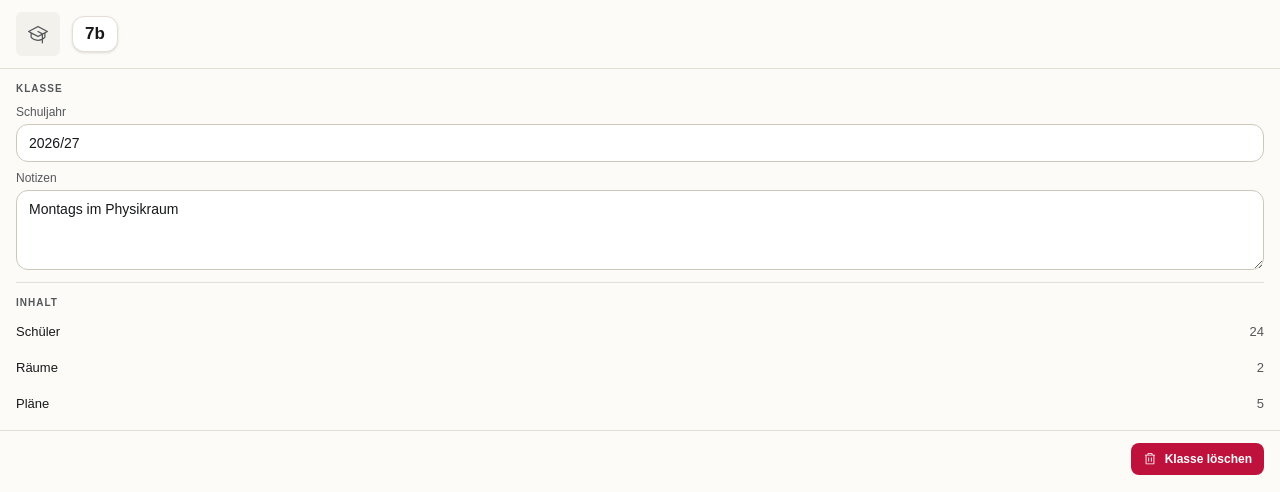
Scenario: ClassPanel › takes a change back on Escape
The image size is (1280, 492).
Replace the text in the field labelled "Schuljahr" with "2027/28" at (640, 143), box [16,124,1264,162]
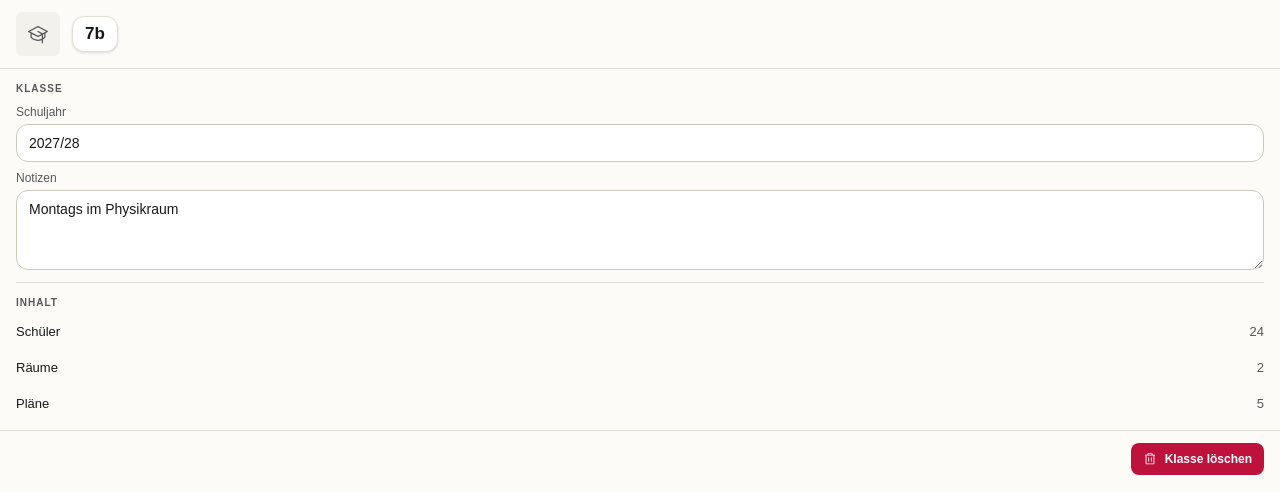
Press Escape in the field labelled "Schuljahr", box [16,124,1264,162]
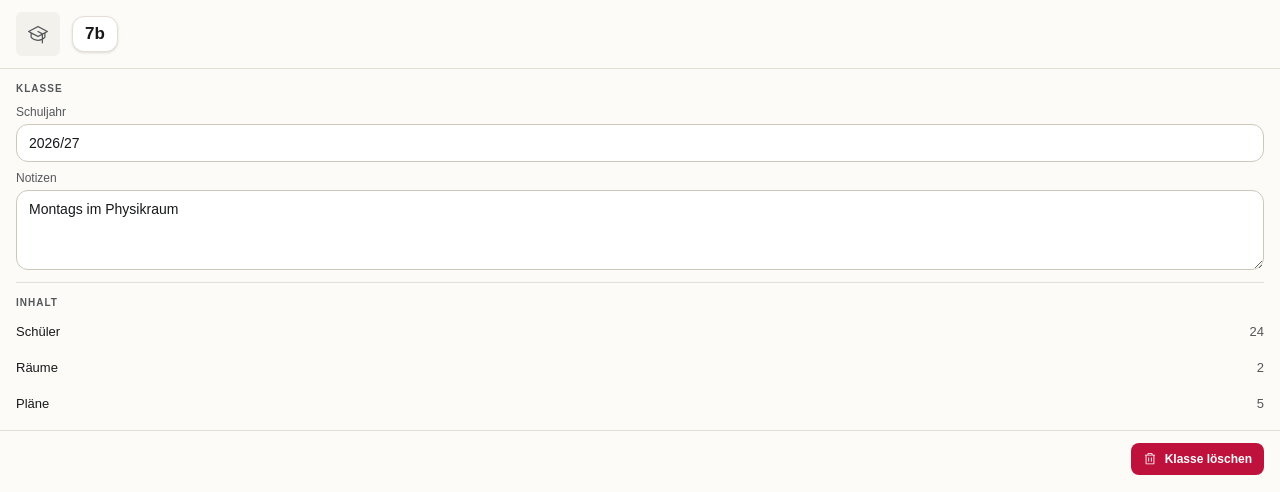
Result: the field labelled "Schuljahr" holds "2026/27" at [16,124,1264,162]
